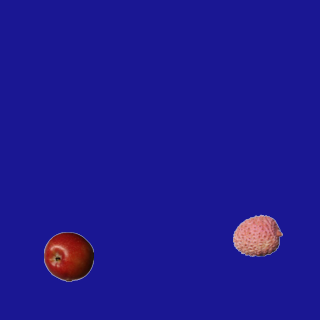Apple Braeburn: (43, 231, 93, 281)
Lychee: (232, 210, 282, 260)
